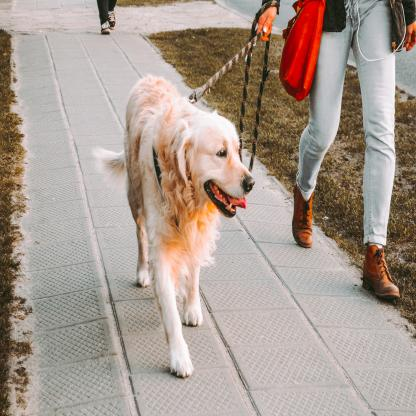Labarador Retriever: (129, 82, 256, 402)
